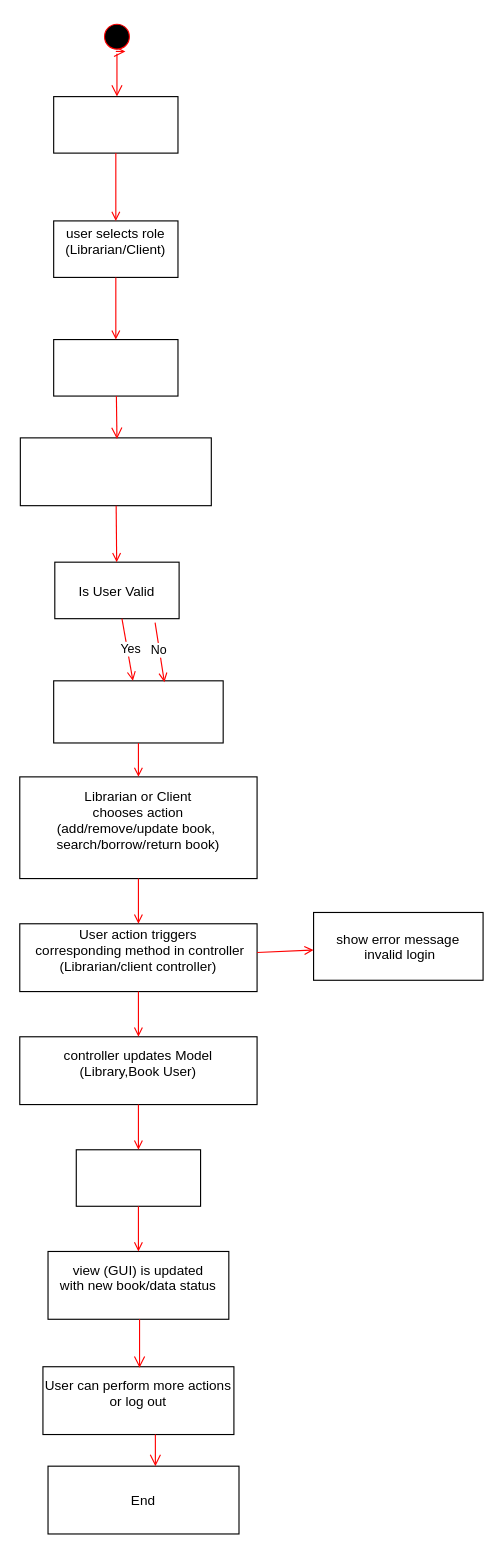
Image size: 503x1554. Some labels were removed from this diagram. Here are the shapes that lost their labels. From the top down, the box of each, then its label:
(53, 95, 178, 153): Start
(53, 338, 178, 396): display login screen (LoginView)
(19, 437, 211, 506): User enters credentials (Controller authenticates)
(53, 680, 223, 743): display role screen (Librarian or client view)
(75, 1149, 201, 1206): Model updates database
